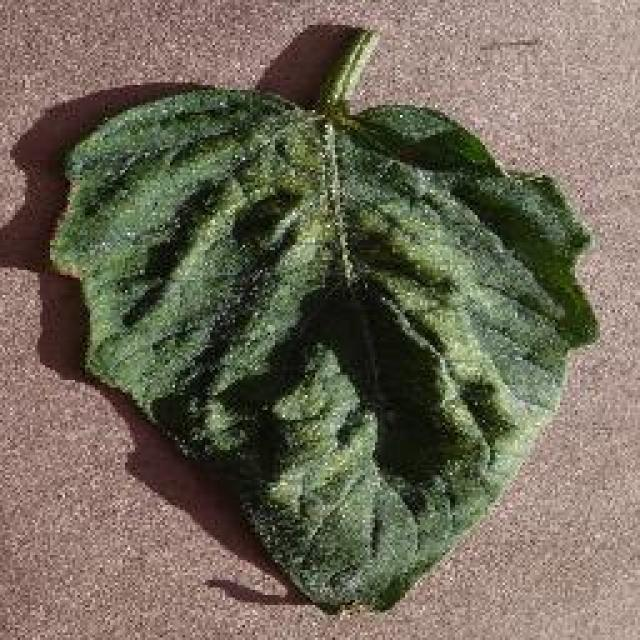Tomato___Spider_mites Two-spotted_spider_mite: (50, 30, 595, 608)
